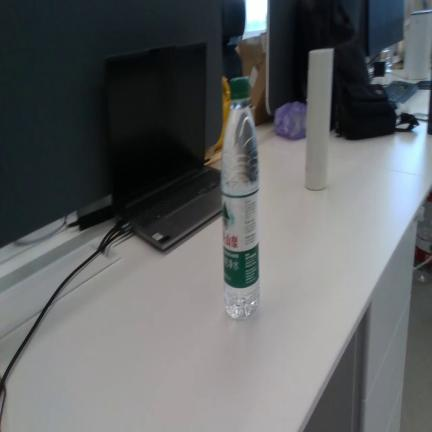bottle: (221, 76, 260, 319)
